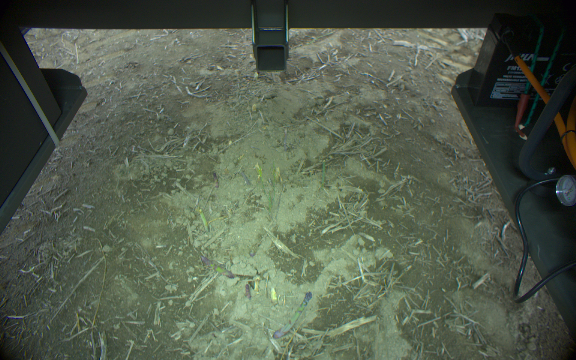aspa: (273, 289, 313, 344), (198, 256, 233, 279), (196, 205, 208, 231)
